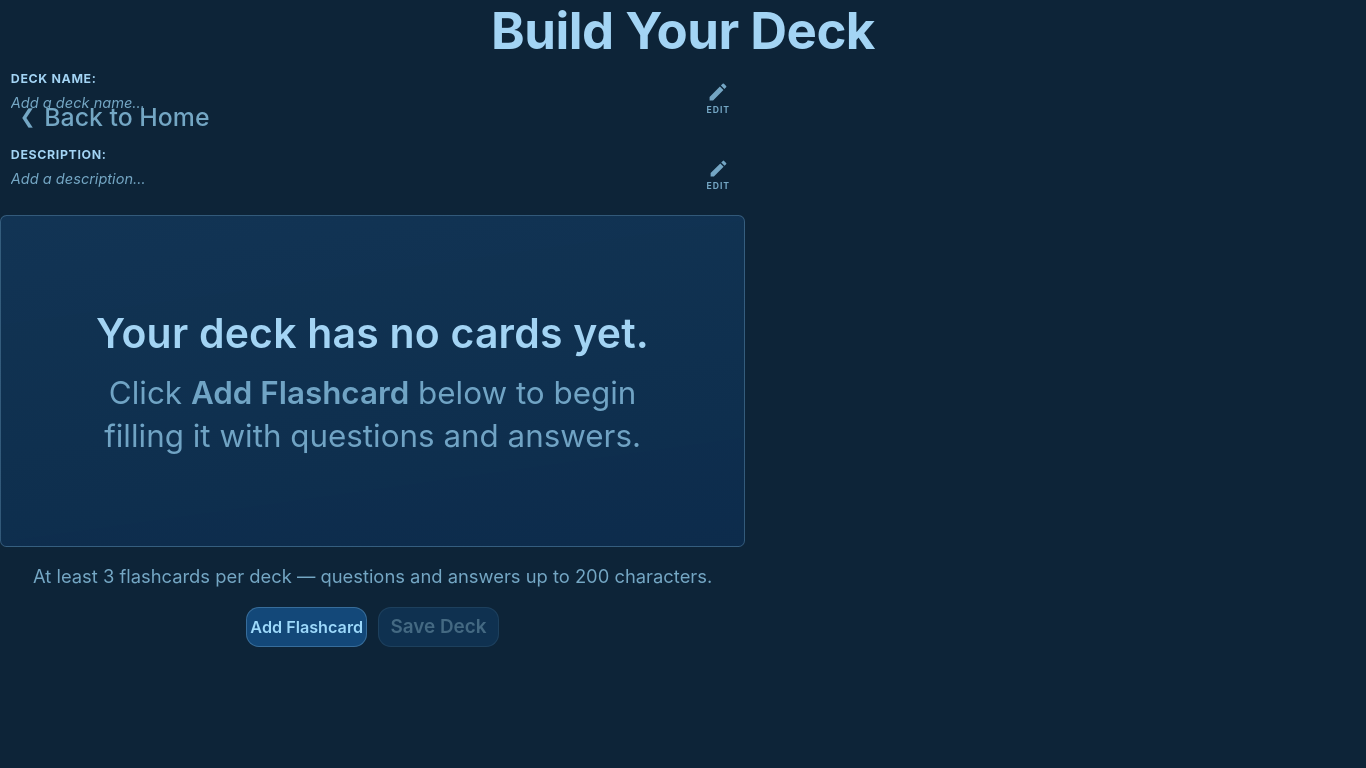
Test: DeckFormPage › opening an existing card repopulates the editor and saves edits back
Click the button "Add Flashcard".
click(307, 627)  # box left=246, top=607, right=367, bottom=647
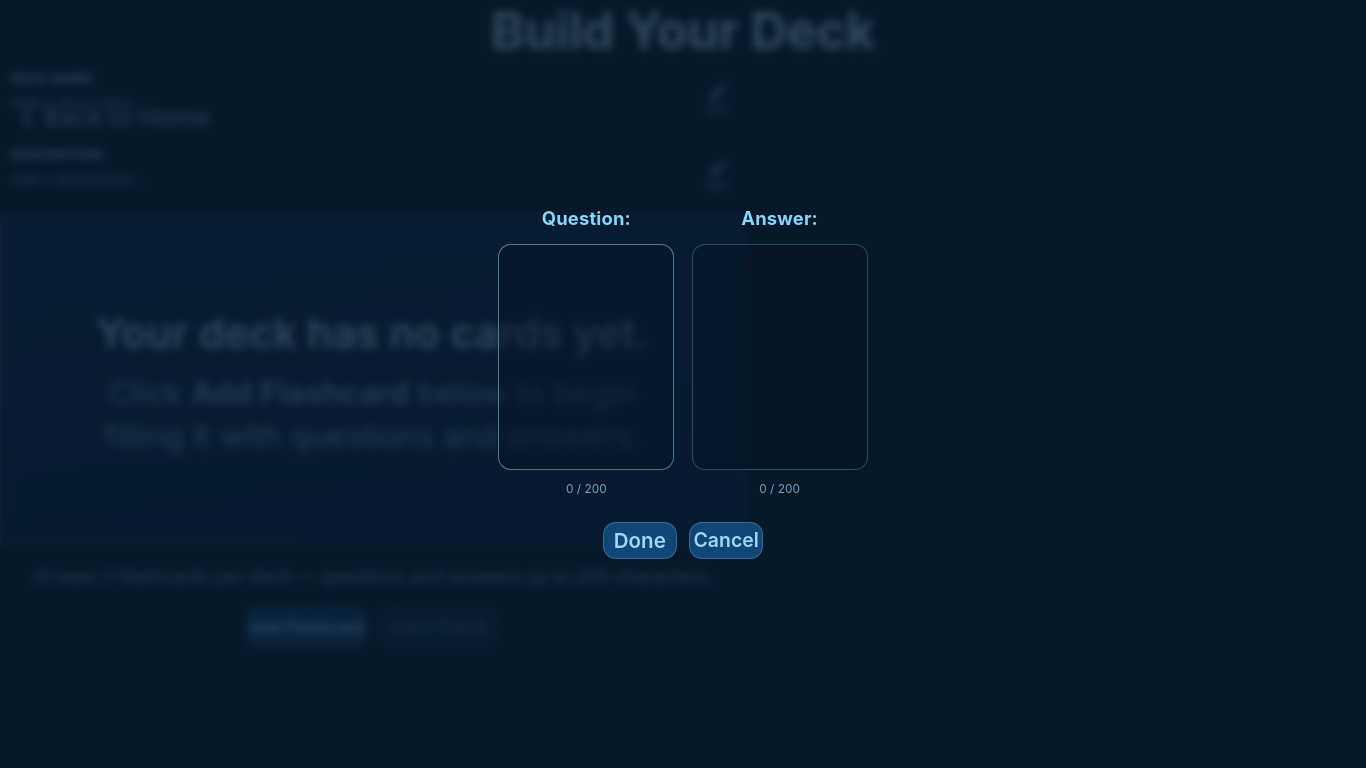
Type "Q1" into the text box labelled "Question:".
click(586, 357); type("Q1")  # box left=498, top=244, right=674, bottom=470
Type "A1" into the text box labelled "Answer:".
click(780, 357); type("A1")  # box left=692, top=244, right=868, bottom=470
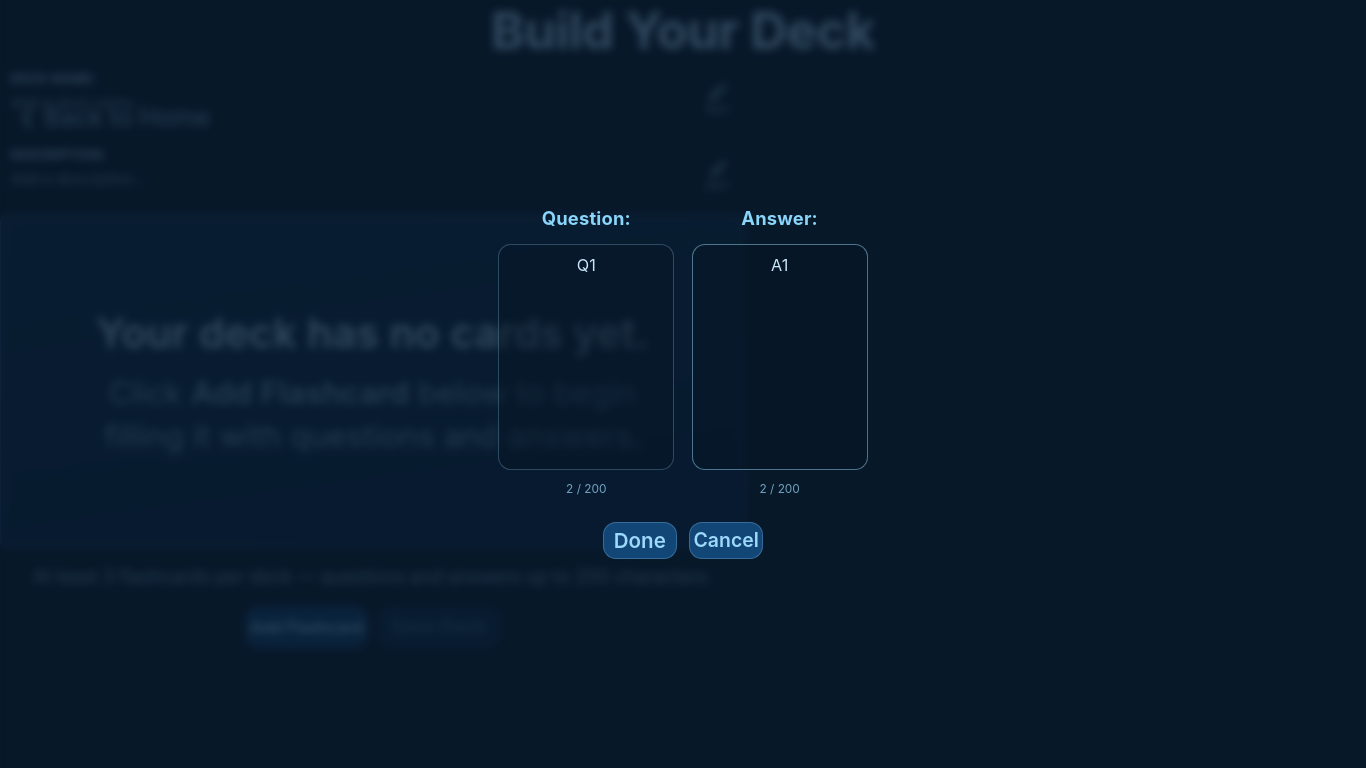
Click the button "Done".
click(640, 540)  # box left=603, top=522, right=676, bottom=559
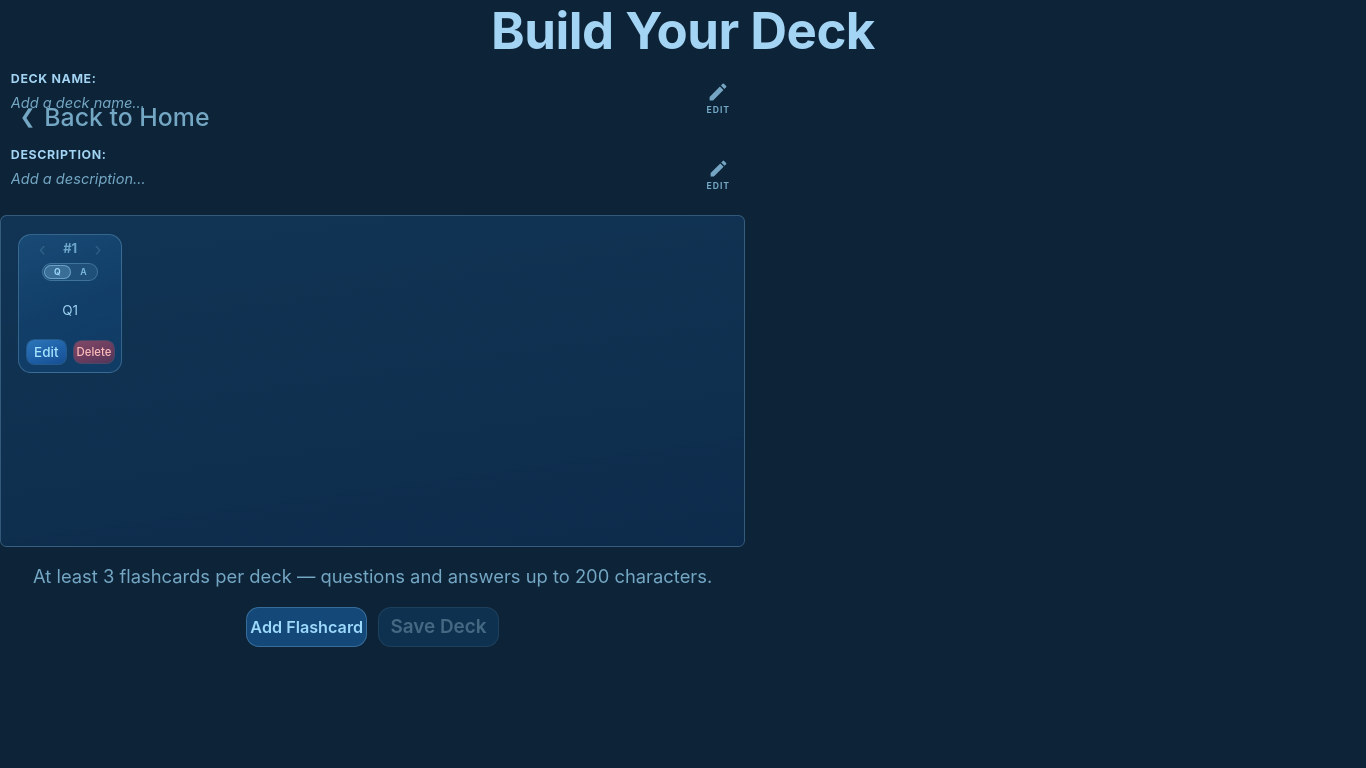
Click the button "Edit".
click(46, 352)  # box left=26, top=339, right=67, bottom=365
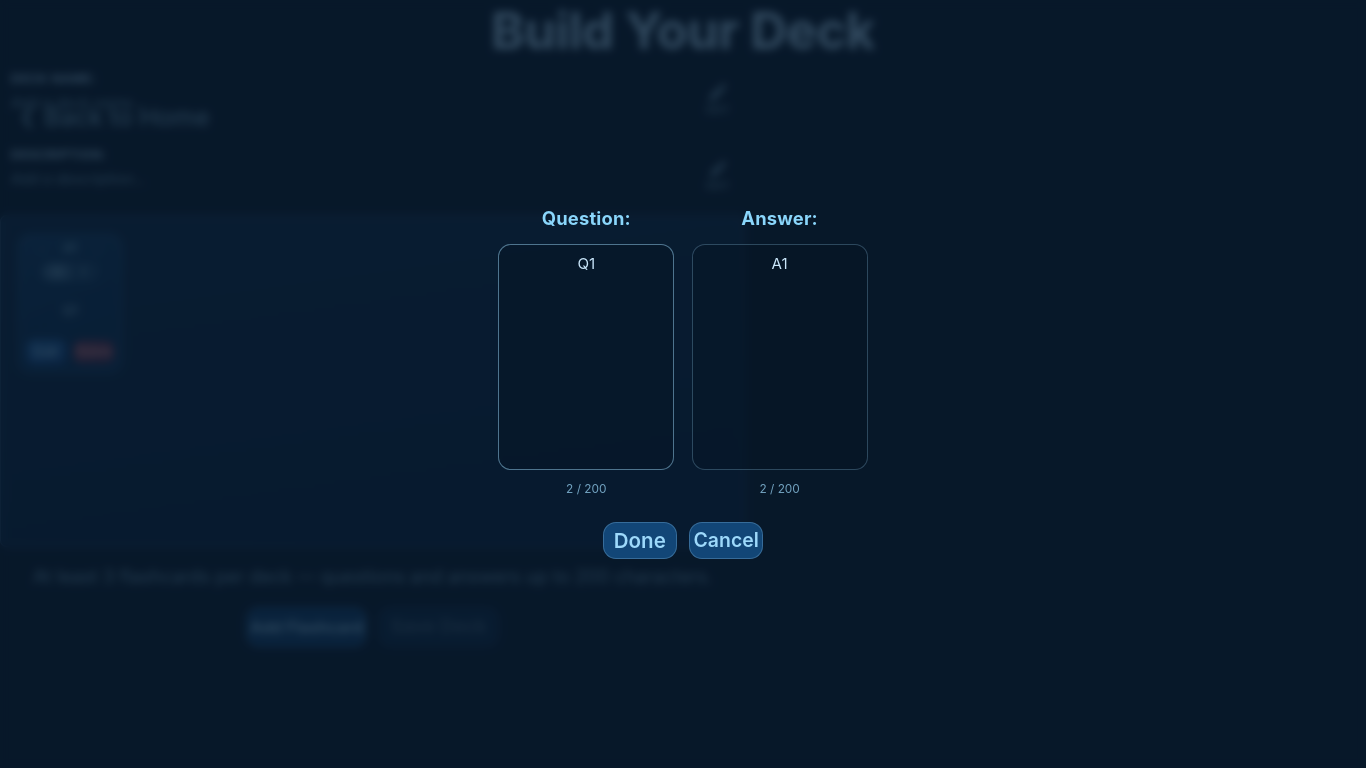
Now the text box labelled "Question:" holds "Q1"
Replace the text in the text box labelled "Question:" with "Q1 edited" at [586, 357], box left=498, top=244, right=674, bottom=470
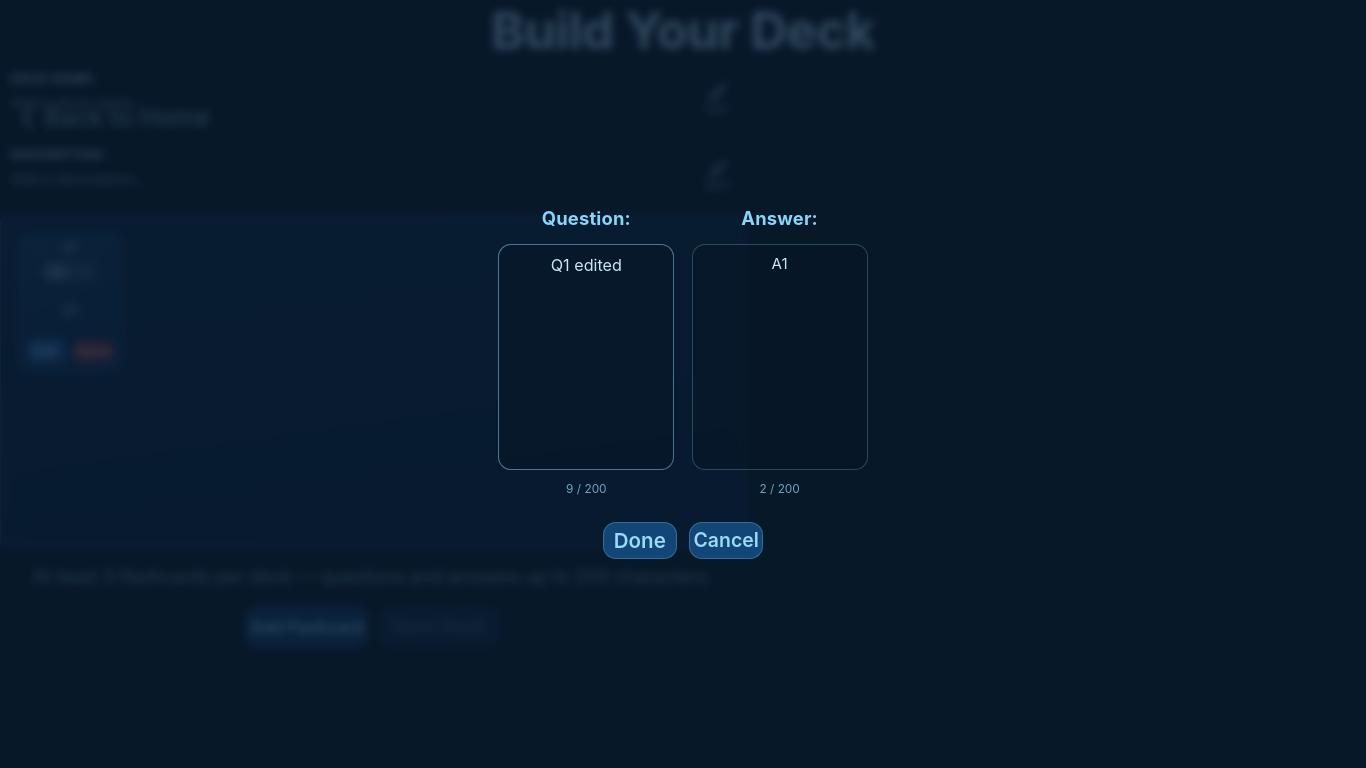
Click the button "Done".
click(640, 540)  # box left=603, top=522, right=676, bottom=559
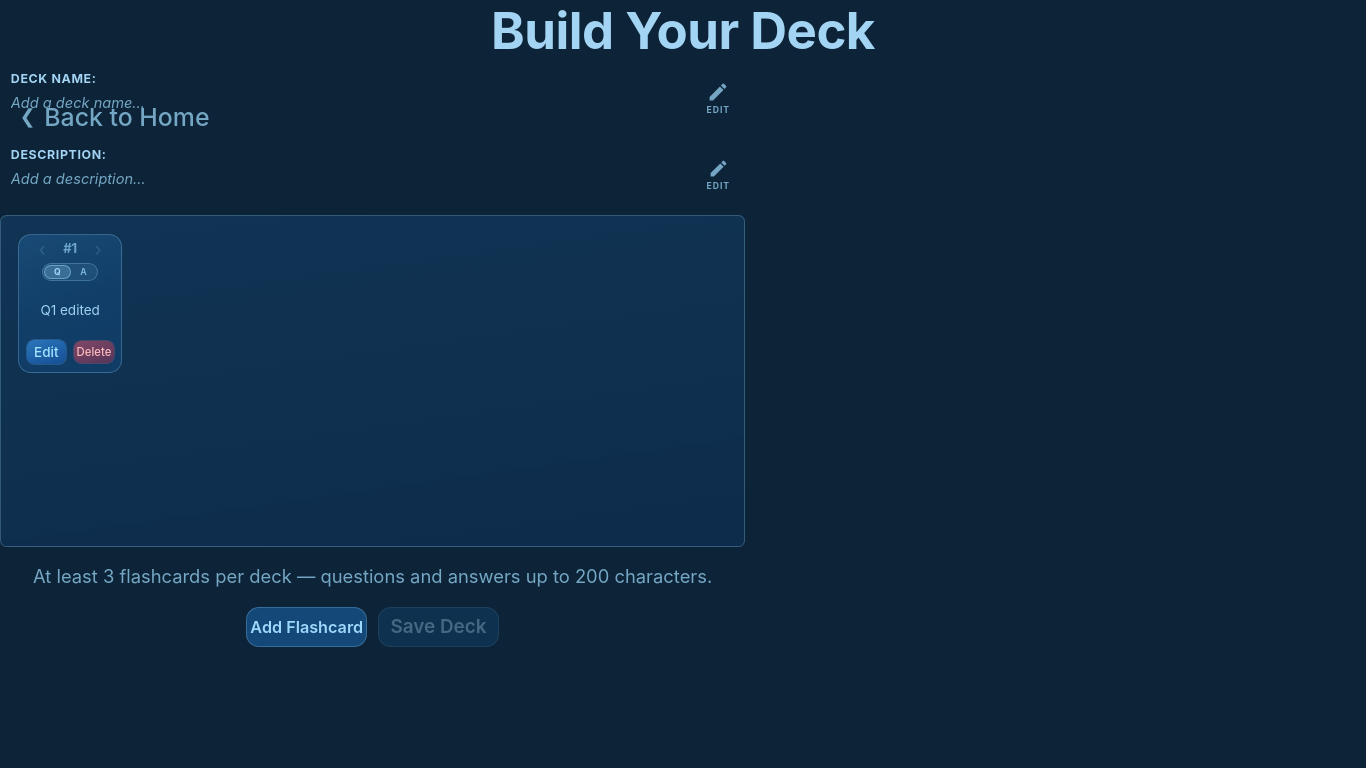
Now the text "Q1 edited" is shown, box left=40, top=302, right=100, bottom=318
